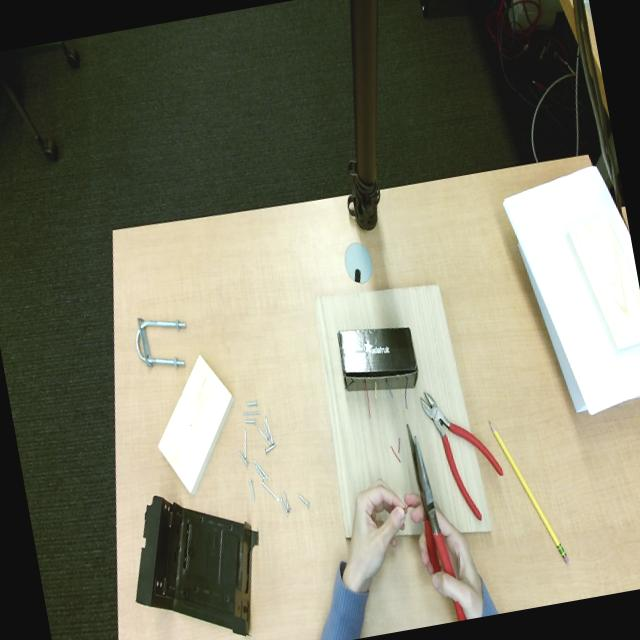pliers: (420, 393, 503, 520), (406, 424, 455, 576), (454, 602, 466, 620)
